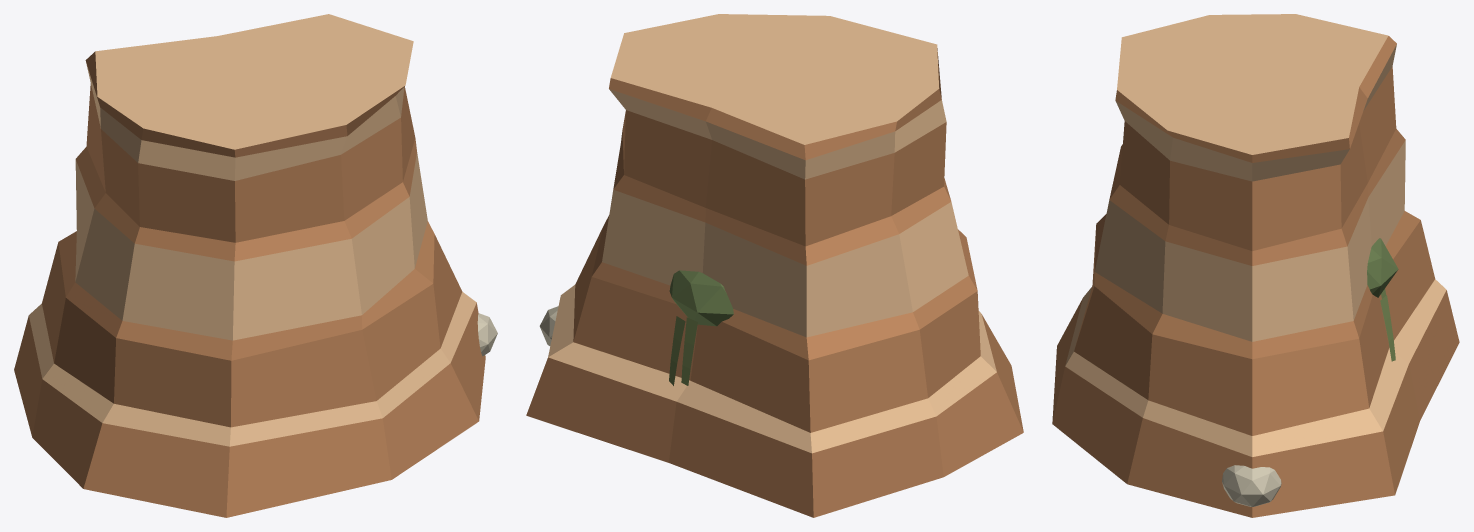
Rendered from nature.glb.
The picture shows the model from 3 angles, left to right: view 1: azimuth 30°, elevation 25°; view 2: azimuth 150°, elevation 25°; view 3: azimuth 270°, elevation 25°; orthographic projection. The views are drawn at different scales.
Parts seen in each view (by area): view 1: Mesa, Ribcage; view 2: Mesa, Willow; view 3: Mesa, Ribcage, Willow.
Part boxes in pixels (box(x1,y1,x2,y2)): Mesa: box(14, 14, 485, 517); Ribcage: box(477, 313, 497, 356); Mesa: box(526, 14, 1023, 517); Willow: box(669, 270, 733, 385); Mesa: box(1052, 14, 1459, 517); Ribcage: box(1222, 465, 1281, 506); Willow: box(1367, 238, 1398, 361).
Bounding box in the file's own units: 12.91 × 9.64 × 10.45.
